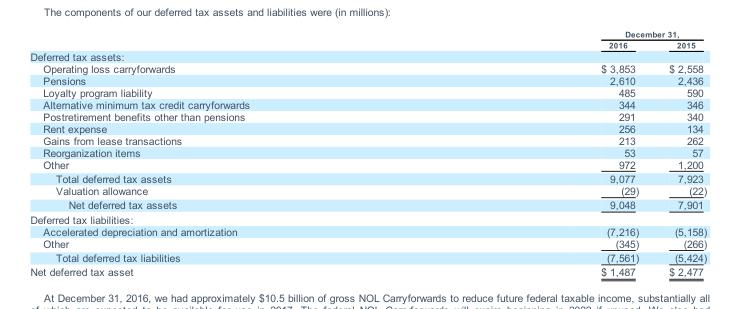table: (29, 29, 706, 277)
table column: (29, 29, 424, 277), (424, 29, 653, 277), (653, 29, 706, 277)
table column header: (29, 29, 706, 49)
table projected row header: (29, 211, 706, 225), (29, 49, 706, 61)
table row: (29, 157, 706, 171), (29, 197, 706, 211), (29, 211, 706, 225), (29, 250, 706, 264), (29, 171, 706, 184), (29, 184, 706, 197), (29, 237, 706, 250), (29, 264, 706, 277), (29, 49, 706, 61), (29, 61, 706, 73), (29, 73, 706, 85), (29, 85, 706, 97), (29, 97, 706, 109), (29, 109, 706, 121), (29, 121, 706, 133), (29, 133, 706, 145), (29, 145, 706, 157), (29, 225, 706, 237), (29, 29, 706, 39), (29, 39, 706, 49)
table spanning cell: (424, 29, 706, 39)
